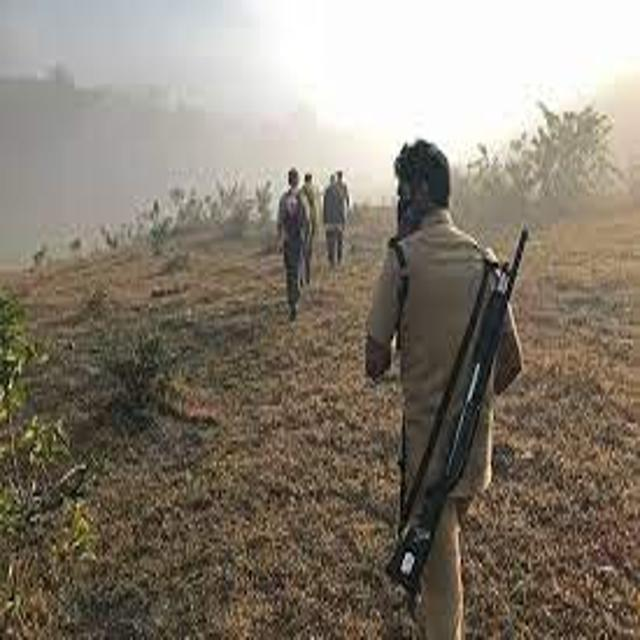gun: (369, 217, 549, 606)
poacher: (330, 123, 580, 628), (251, 158, 324, 333), (284, 157, 336, 297), (314, 155, 368, 289)
